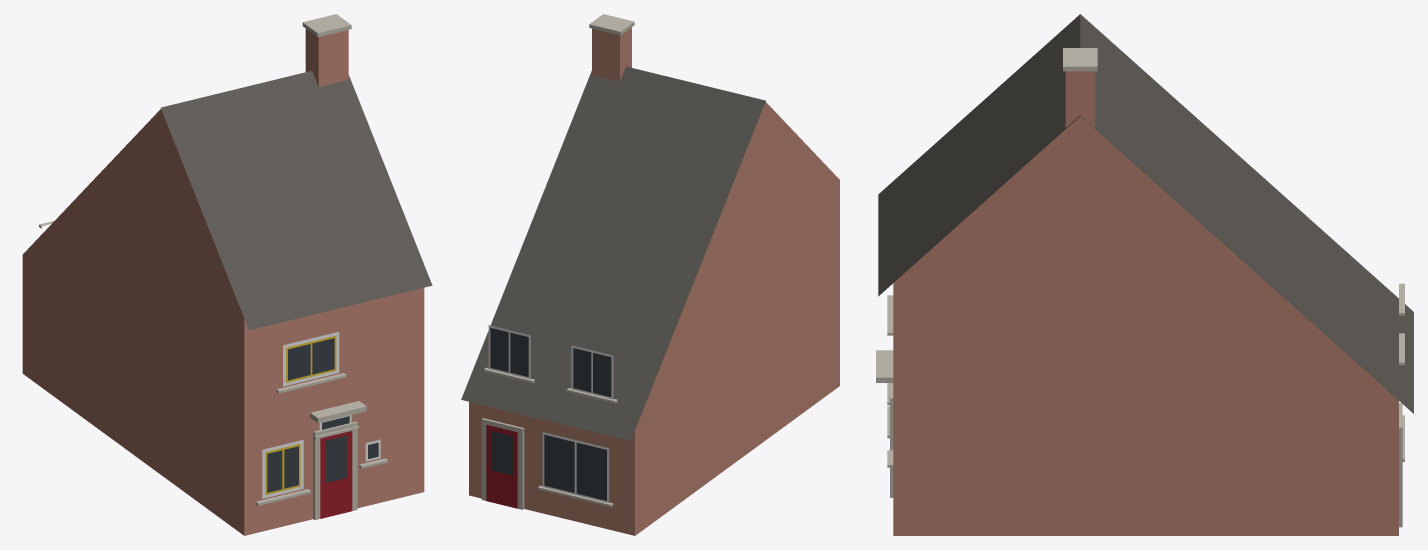
File: nw-ma-red-door__red__2__gable__long__solid.glb
3 views of the same model, side by side, from view 1: azimuth 30°, elevation 25°; view 2: azimuth 150°, elevation 25°; view 3: azimuth 270°, elevation 25° (orthographic). The views are drawn at different scales.
Parts seen in each view (by area): view 1: nw-ma-red-door__red__2__gable__long__solid; view 2: nw-ma-red-door__red__2__gable__long__solid; view 3: nw-ma-red-door__red__2__gable__long__solid.
Boxes of the visible parts, left/top/right/bottom form: nw-ma-red-door__red__2__gable__long__solid: left=22, top=14, right=432, bottom=535; nw-ma-red-door__red__2__gable__long__solid: left=461, top=14, right=839, bottom=535; nw-ma-red-door__red__2__gable__long__solid: left=876, top=14, right=1413, bottom=535.
Size of the model in its own units: 4.88 by 10.47 by 10.85.
